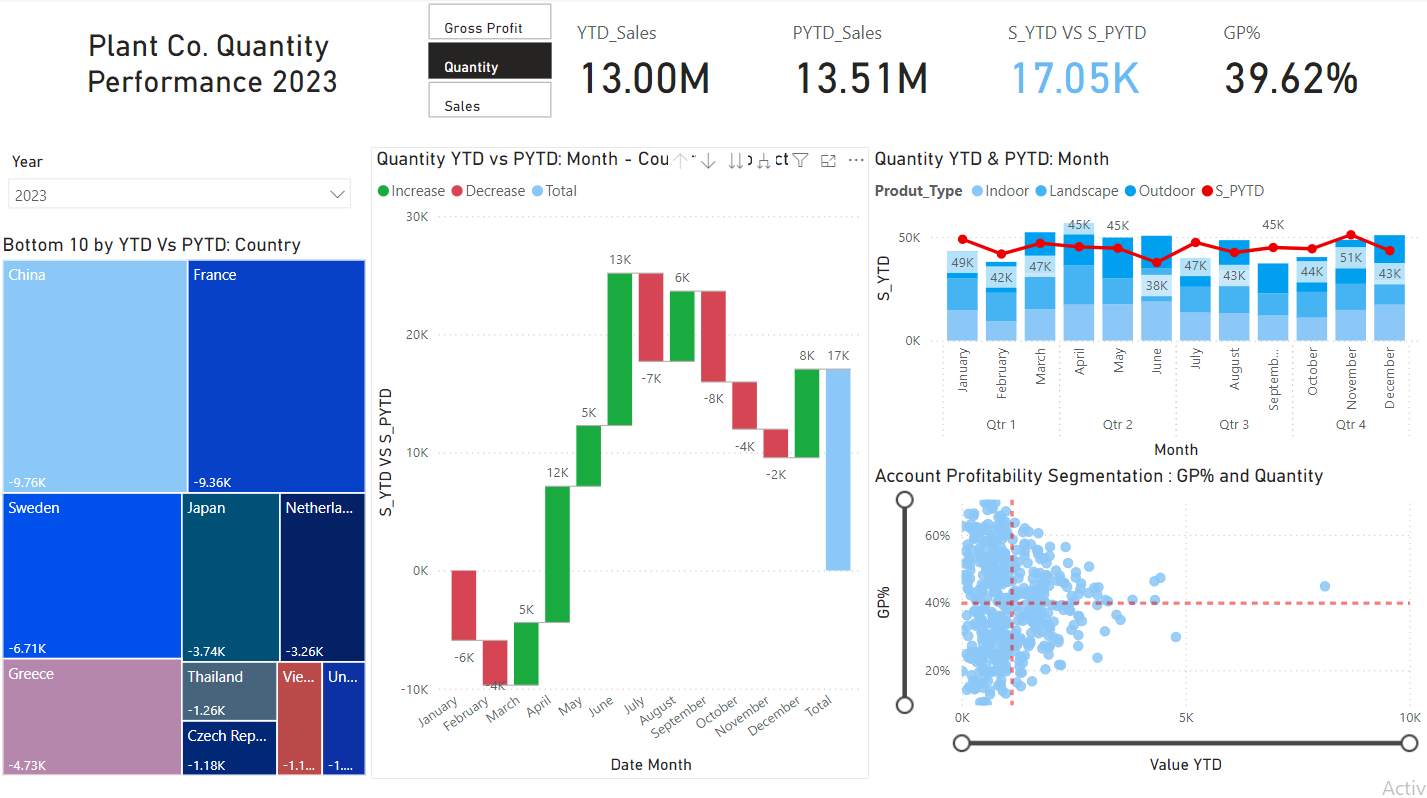

The page's visual inventory and layout, read from the dashboard file:
{"tool":"powerbi","page":{"name":"Performance Report","canvas":[1280,720],"ordinal":0},"visuals":[{"type":"cardVisual","fields":{"Data":["__Measures.YTD_Sales","__Measures.PYTD_Sales","__Measures.S_YTD VS S_PYTD","__Measures.GP%"]},"box":[502.4,0,777.6,112],"z":0},{"type":"slicer","fields":{"Values":["Dim_Date.Date.Variation.Date Hierarchy.Year"]},"box":[0,133.3,327.5,76.8],"z":1000},{"type":"treemap","title":"Bottom 10 by YTD Vs PYTD: Country","fields":{"Group":["Dim_Accounts.country"],"Values":["__Measures.S_YTD VS S_PYTD"]},"box":[0,210.1,334.9,490.7],"z":2000},{"type":"advancedSlicerVisual","fields":{"Values":["Slc_Values.Values"]},"box":[381.9,0,120.5,112],"z":3000},{"type":"waterfallChart","fields":{"Y":["__Measures.S_YTD VS S_PYTD"],"Category":["Dim_Date.Date.Variation.Date Hierarchy.Month","Dim_Accounts.country"]},"box":[334.9,133.3,445.9,566.4],"z":4000},{"type":"lineStackedColumnComboChart","fields":{"Y":["__Measures.S_YTD"],"Category":["Dim_Date.Date.Variation.Date Hierarchy.Quarter","Dim_Date.Date.Variation.Date Hierarchy.Month"],"Y2":["__Measures.S_PYTD"],"Series":["Dim_Product.Produt_Type"]},"box":[780.8,133.3,499.2,283.7],"z":5000},{"type":"scatterChart","fields":{"Y":["__Measures.GP%"],"X":["__Measures.S_YTD"],"Category":["Dim_Accounts.Account"]},"box":[781,417,499,282],"z":6000},{"type":"card","fields":{"Values":["__Measures.-REPORT TITLE"]},"box":[0,0,386.1,112],"z":6001}]}

Visuals, with their boxes in screenshot pixels (x1, y1, x2, y2), scaled from the page's 1280x720 canvas onto the 1427x798 screenshot:
cardVisual - __Measures.YTD_Sales x __Measures.PYTD_Sales: left=560, top=0, right=1426, bottom=124
slicer - Dim_Date.Date.Variation.Date Hierarchy.Year: left=0, top=148, right=365, bottom=233
"Bottom 10 by YTD Vs PYTD: Country" treemap: left=0, top=233, right=373, bottom=777
advancedSlicerVisual - Slc_Values.Values: left=426, top=0, right=560, bottom=124
waterfallChart - __Measures.S_YTD VS S_PYTD x Dim_Date.Date.Variation.Date Hierarchy.Month: left=373, top=148, right=870, bottom=776
lineStackedColumnComboChart - __Measures.S_YTD x Dim_Date.Date.Variation.Date Hierarchy.Quarter: left=870, top=148, right=1426, bottom=462
scatterChart - __Measures.GP% x __Measures.S_YTD: left=871, top=462, right=1426, bottom=775
card - __Measures.-REPORT TITLE: left=0, top=0, right=430, bottom=124
